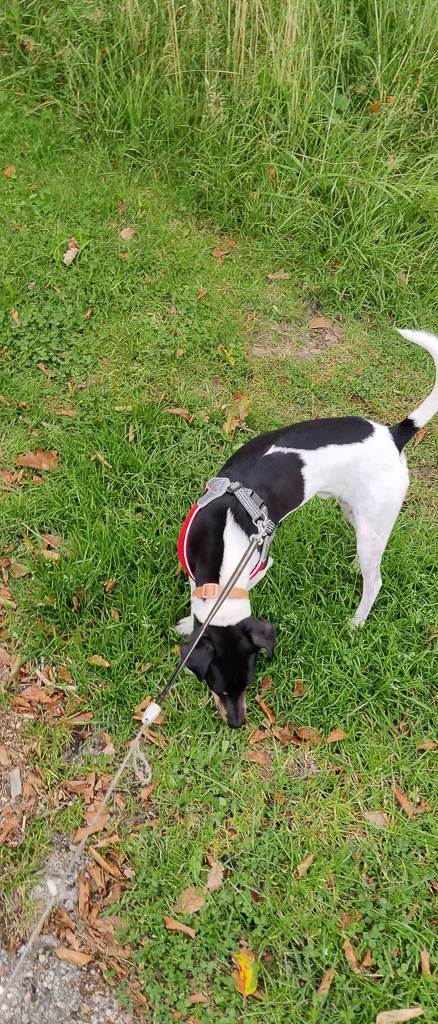Dog: (142, 307, 438, 739)
